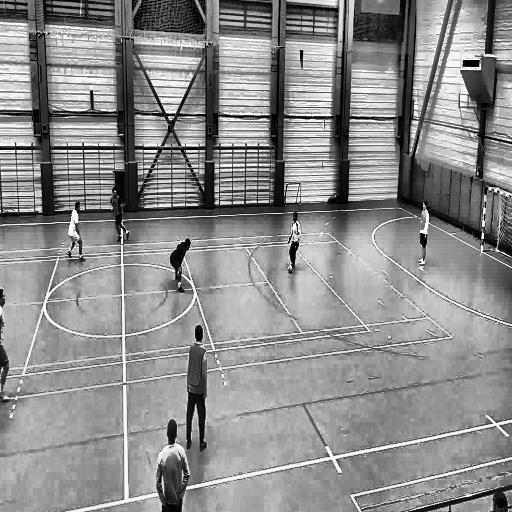ball: (286, 263, 293, 277)
player: (184, 322, 210, 452), (156, 419, 190, 512), (0, 281, 11, 405), (66, 200, 88, 262), (169, 238, 193, 292), (109, 186, 130, 244), (416, 199, 431, 268), (287, 210, 302, 266)
